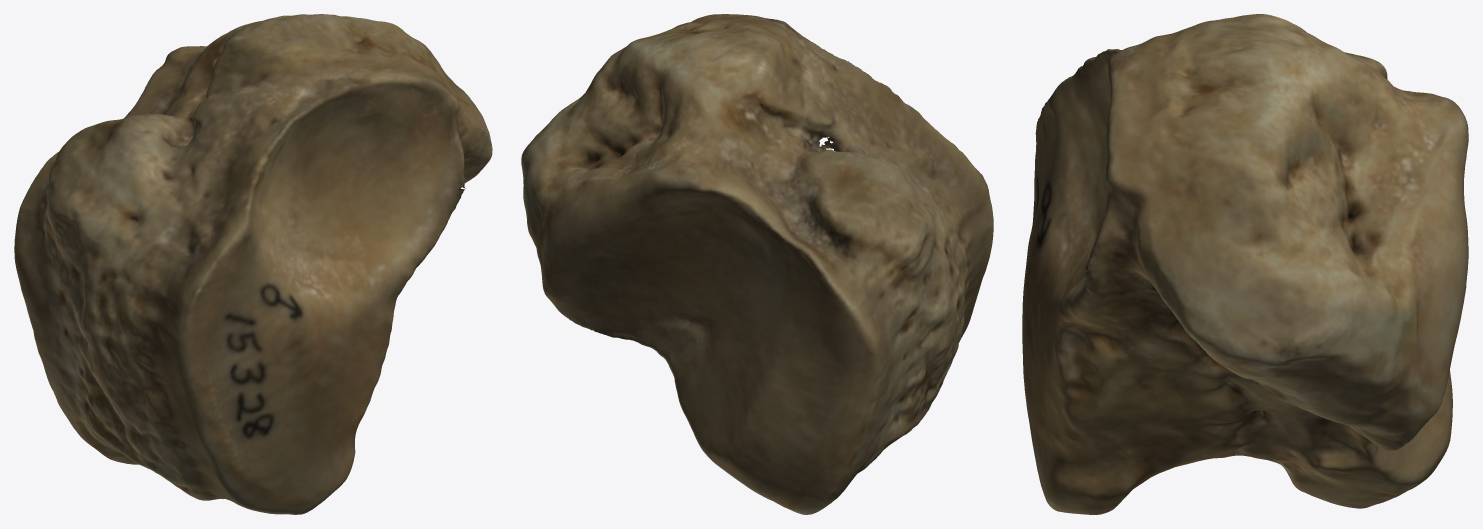
3 renders of one model, left to right at view 1: azimuth 30°, elevation 25°; view 2: azimuth 150°, elevation 25°; view 3: azimuth 270°, elevation 25°, orthographic. The views are drawn at different scales.
Visible parts, largest first — view 1: Node; view 2: Node; view 3: Node.
Boxes of the visible parts, left/top/right/bottom form: Node: left=14, top=14, right=492, bottom=514; Node: left=521, top=14, right=993, bottom=514; Node: left=1022, top=14, right=1468, bottom=514.
Size of the model in its own units: 39.82 by 39.44 by 29.25.
Materials: 1 (1 with a texture image).
